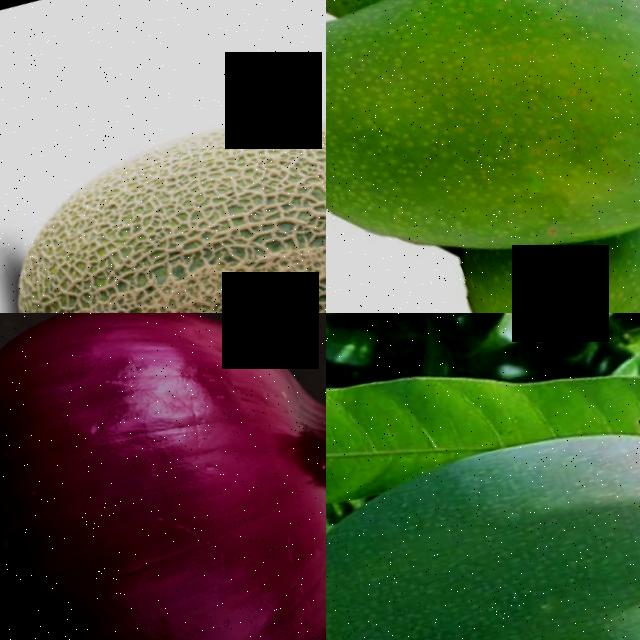mango: (326, 0, 640, 313), (326, 332, 640, 640), (450, 184, 640, 313)
melon: (0, 21, 326, 313)
onion: (0, 313, 326, 640)
